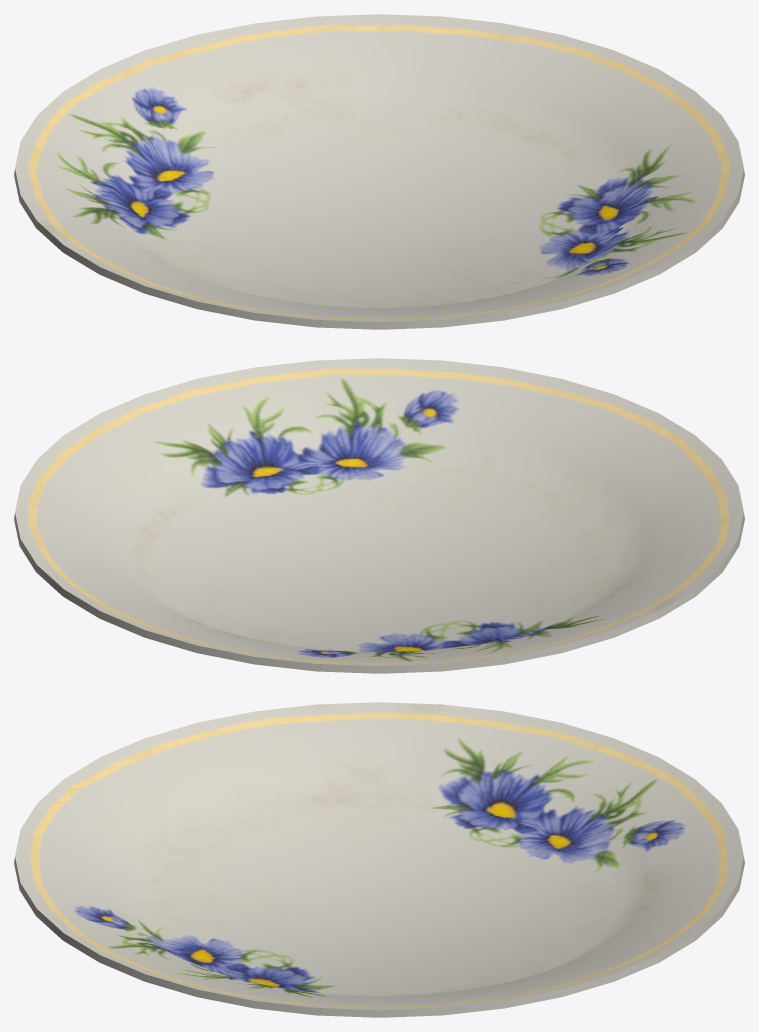
The model's file is SM_KitchenCeramics01B.FBX.
3 views of the same model, one above another, from view 1: azimuth 30°, elevation 25°; view 2: azimuth 150°, elevation 25°; view 3: azimuth 270°, elevation 25° (orthographic).
Parts seen in each view (by area): view 1: SM_KitchenCeramics01B_LOD0; view 2: SM_KitchenCeramics01B_LOD0; view 3: SM_KitchenCeramics01B_LOD0.
Boxes of the visible parts, x1=… form: SM_KitchenCeramics01B_LOD0: x1=14, y1=14, x2=744, y2=329; SM_KitchenCeramics01B_LOD0: x1=14, y1=358, x2=744, y2=673; SM_KitchenCeramics01B_LOD0: x1=14, y1=702, x2=744, y2=1017.
Size of the model in its own units: 32.37 by 32.37 by 2.73.
